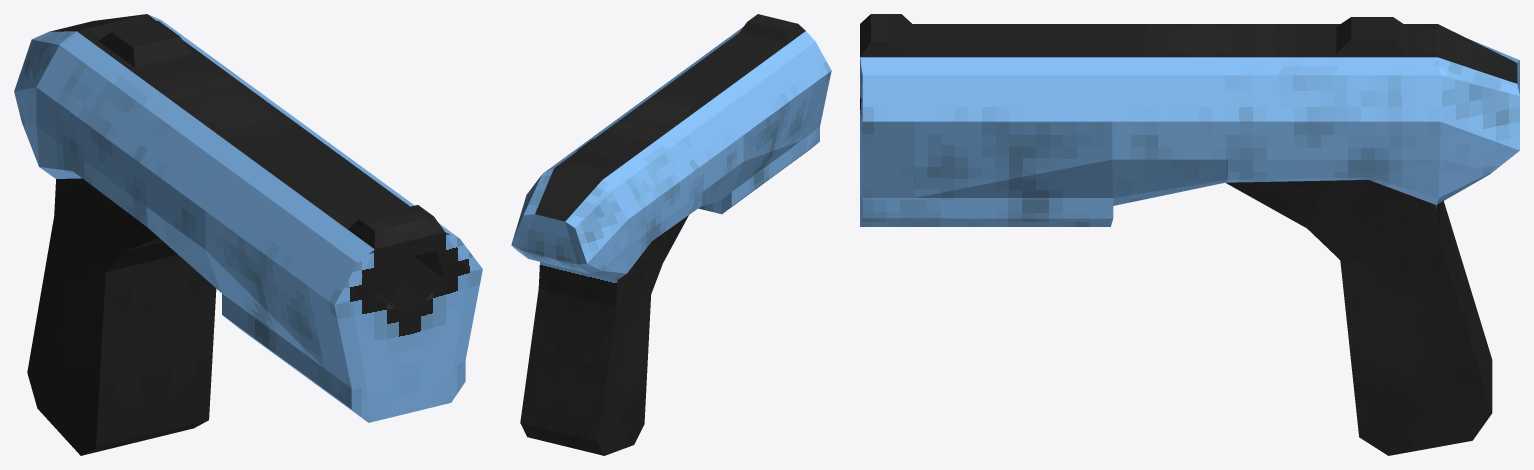
File: Pistol.fbx
3 renders of one model, left to right at view 1: azimuth 30°, elevation 25°; view 2: azimuth 150°, elevation 25°; view 3: azimuth 270°, elevation 25°, orthographic. The views are drawn at different scales.
Visible parts, largest first — view 1: Pistol; view 2: Pistol; view 3: Pistol.
Part boxes in pixels (x1,y1,x2,y2): Pistol: [14, 14, 482, 455]; Pistol: [511, 14, 831, 455]; Pistol: [860, 14, 1519, 455].
Bounding box in the file's own units: 0.0627 × 0.1672 × 0.2491.
